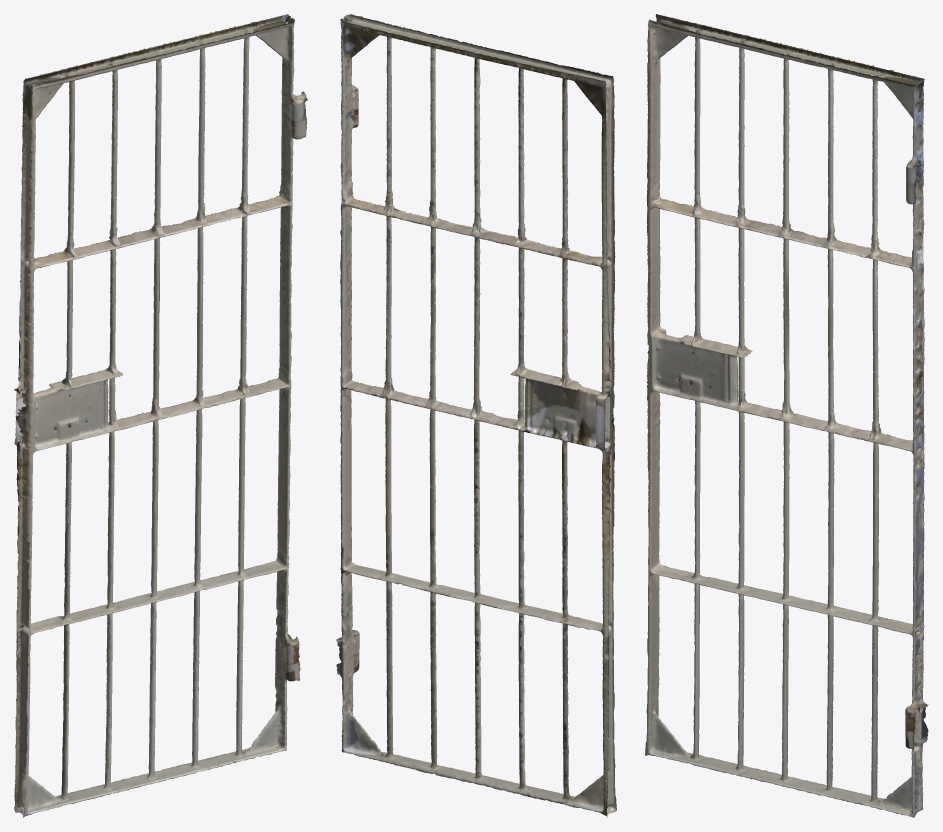
Rendered from Gate.obj.
3 renders of one model, left to right at view 1: azimuth 30°, elevation 25°; view 2: azimuth 150°, elevation 25°; view 3: azimuth 330°, elevation 25°, orthographic.
Parts seen in each view (by area): view 1: Gate_cl3_Dec100k_tx; view 2: Gate_cl3_Dec100k_tx; view 3: Gate_cl3_Dec100k_tx.
Part boxes in pixels (x1=…): Gate_cl3_Dec100k_tx: x1=14, y1=14, x2=307, y2=817; Gate_cl3_Dec100k_tx: x1=336, y1=14, x2=616, y2=817; Gate_cl3_Dec100k_tx: x1=645, y1=14, x2=928, y2=817.
Bounding box in the file's own units: 0.7914 × 1.99 × 0.0963.
1 material, 1 textured.
